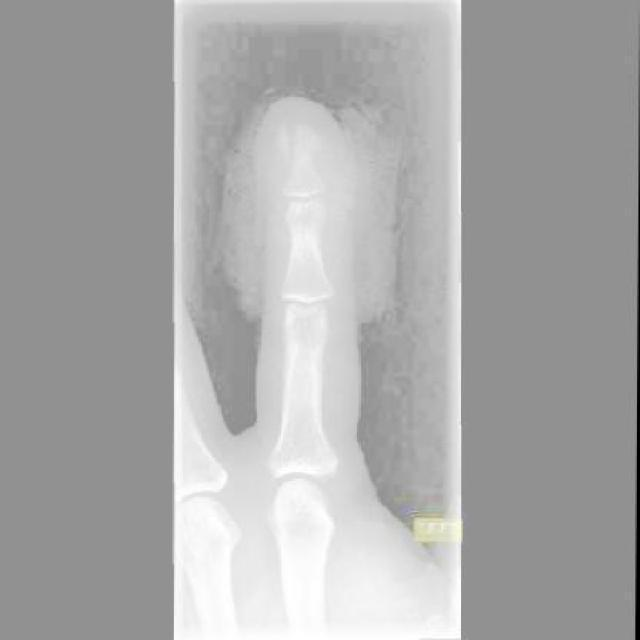Fracture: (273, 114, 321, 180)
